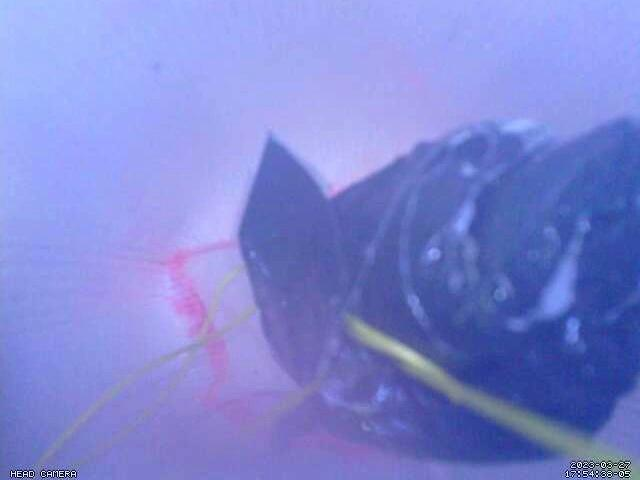head: (166, 238, 385, 455)
